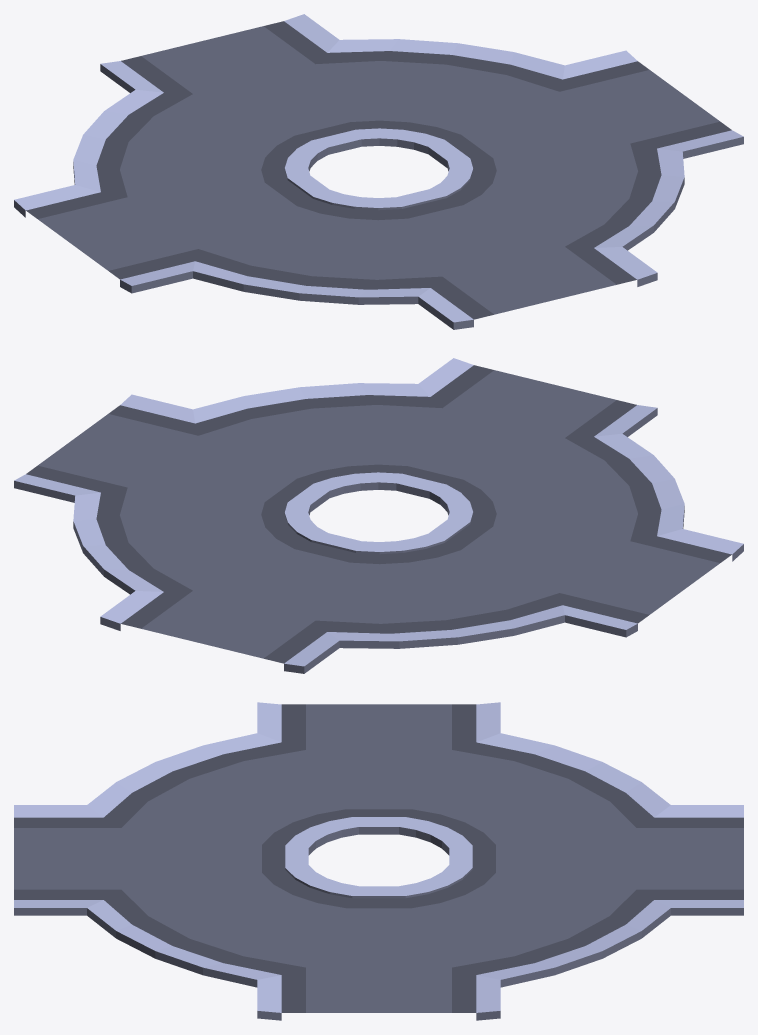
Rendered from road-roundabout.glb.
3 views of the same model, one above another, from view 1: azimuth 30°, elevation 25°; view 2: azimuth 150°, elevation 25°; view 3: azimuth 270°, elevation 25° (orthographic). The views are drawn at different scales.
Visible parts, largest first — view 1: road-roundabout; view 2: road-roundabout; view 3: road-roundabout.
Boxes of the visible parts, bbox=[...] form: road-roundabout: bbox=[14, 14, 743, 329]; road-roundabout: bbox=[14, 358, 743, 673]; road-roundabout: bbox=[14, 702, 743, 1020].
Bounding box in the file's own units: 3 × 0.045 × 3.
1 material, 1 textured.
